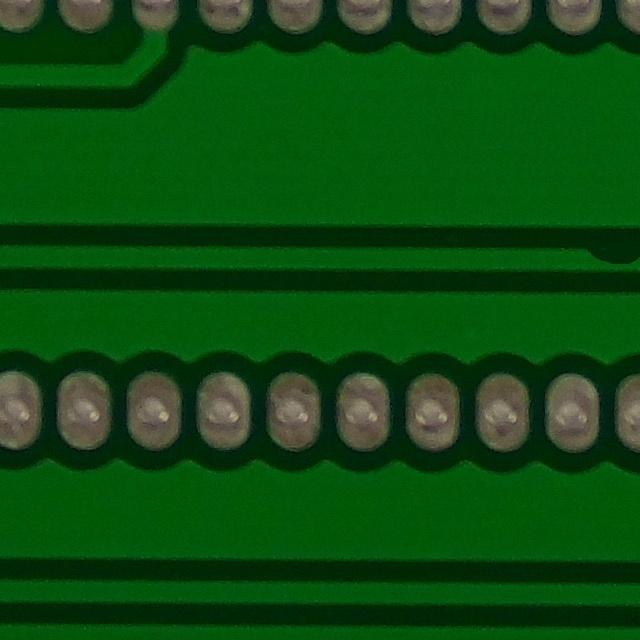mouse_bite: (571, 232, 640, 287)
